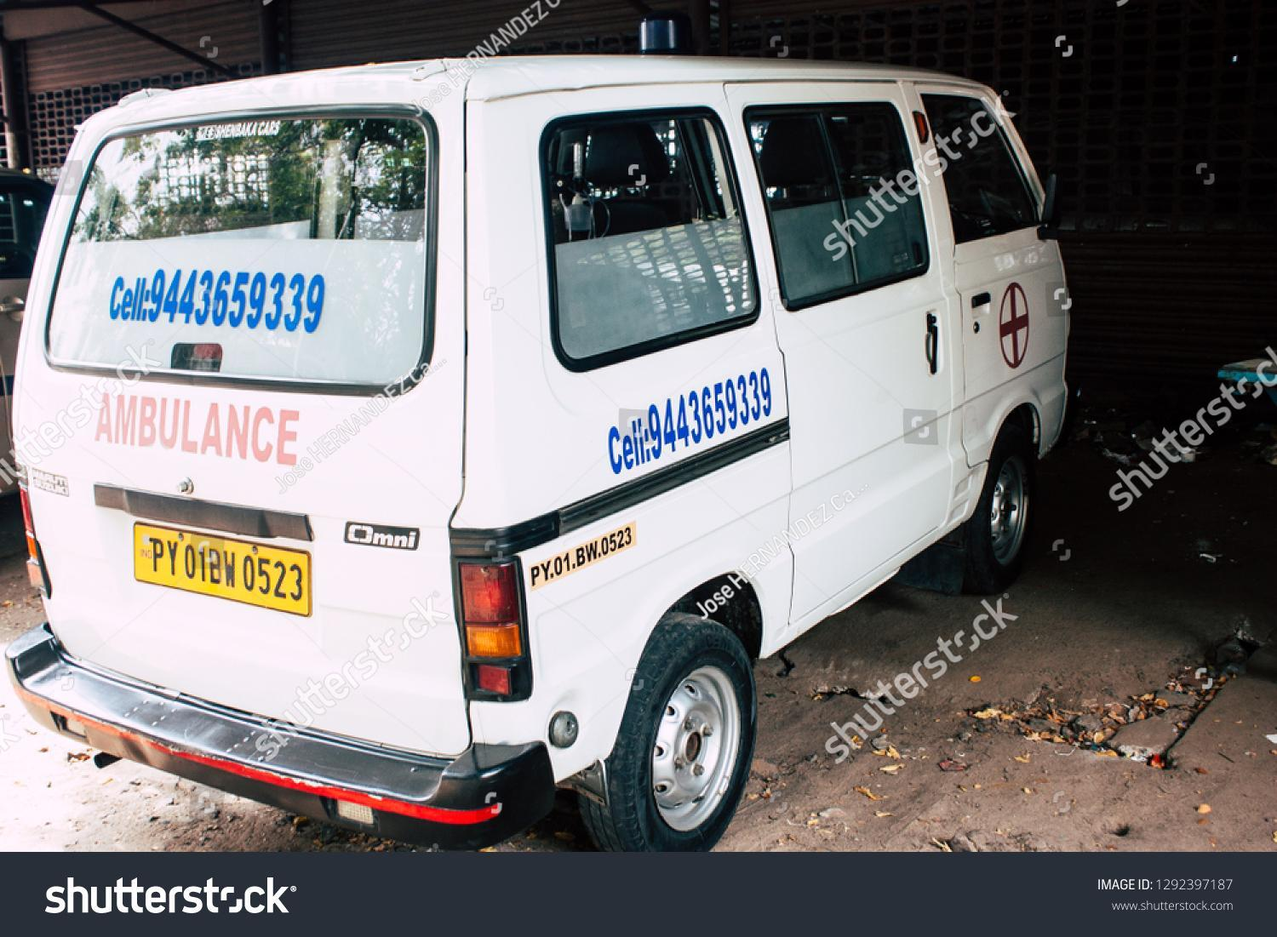Ambulance: (86, 383, 309, 476)
